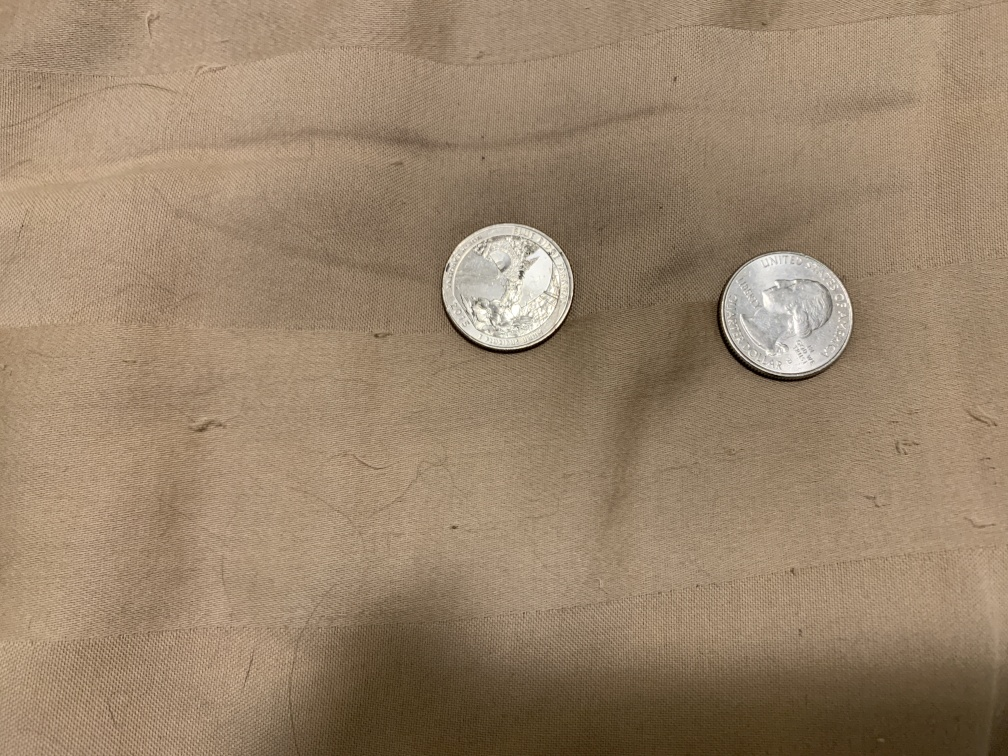quarter: (713, 247, 859, 387), (437, 221, 578, 353)
